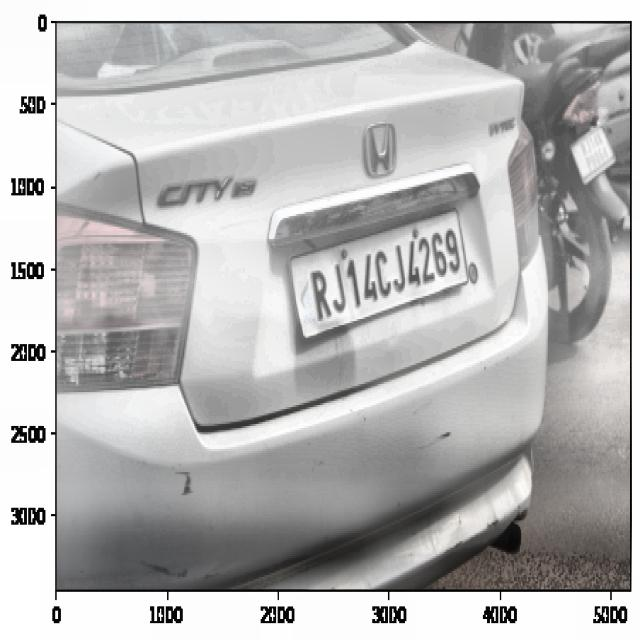license_plate: (304, 226, 463, 322)
